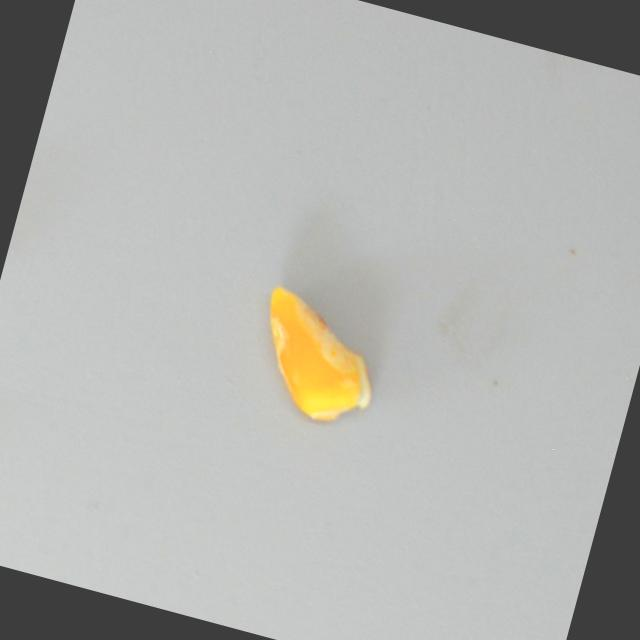dañado: (232, 274, 403, 439)
